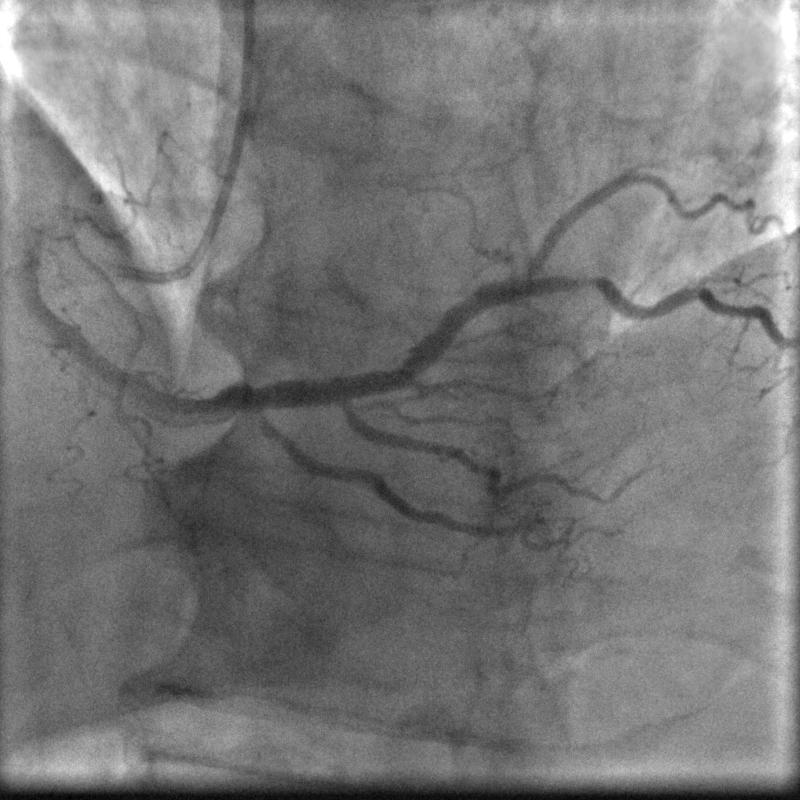Stenosis: (549, 267, 611, 297)
